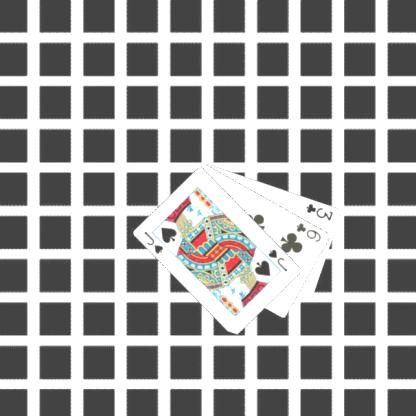3C: (303, 200, 335, 222)
6C: (294, 220, 323, 243)
JS: (265, 246, 289, 273), (141, 228, 165, 255)
